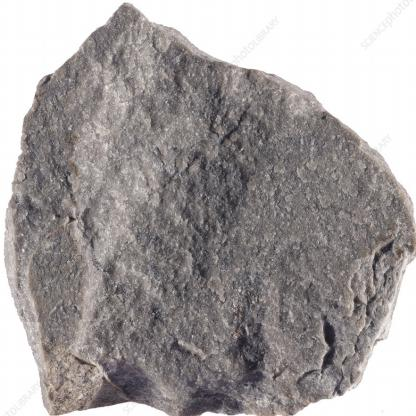Sedimentary_Limestone: (8, 6, 416, 416)
